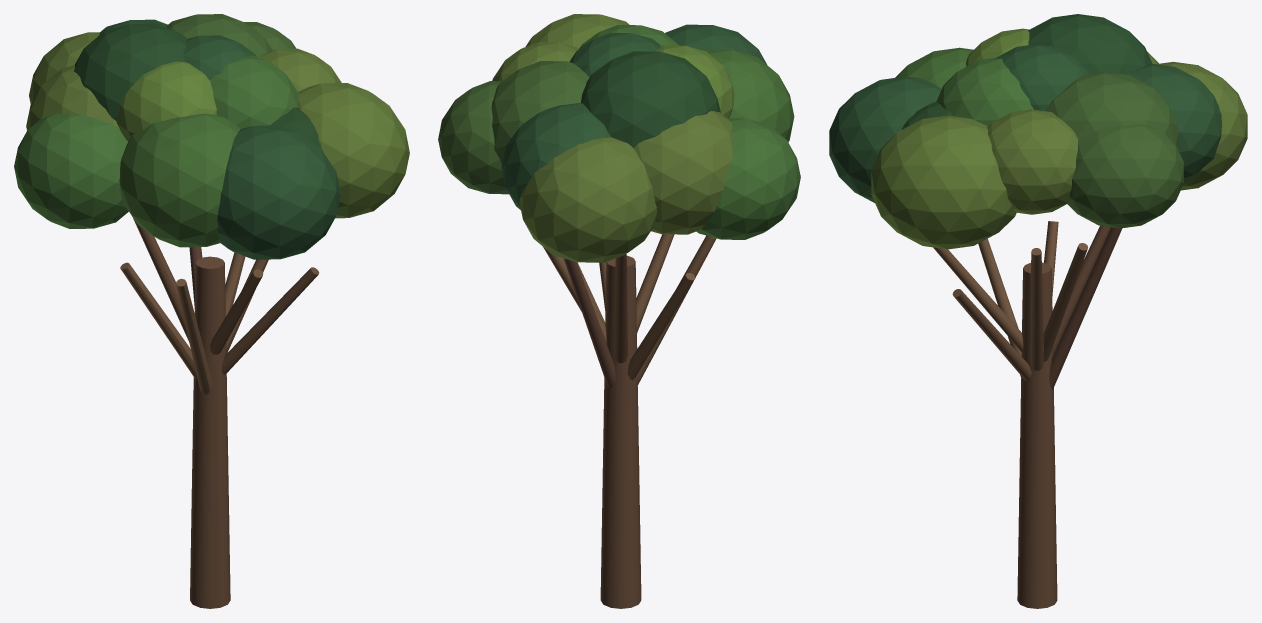
File: broadleaf-irregular.near.glb
3 renders of one model, left to right at view 1: azimuth 30°, elevation 25°; view 2: azimuth 150°, elevation 25°; view 3: azimuth 270°, elevation 25°, orthographic. The views are drawn at different scales.
Parts seen in each view (by area): view 1: foliage, wood; view 2: foliage, wood; view 3: foliage, wood.
Boxes of the visible parts, <box> form: foliage: <box>14,14,409,259</box>; wood: <box>120,218,319,608</box>; foliage: <box>438,14,800,262</box>; wood: <box>543,234,716,608</box>; foliage: <box>829,14,1247,249</box>; wood: <box>933,221,1122,608</box>.
Bounding box in the file's own units: 4.12 × 7 × 4.78.
